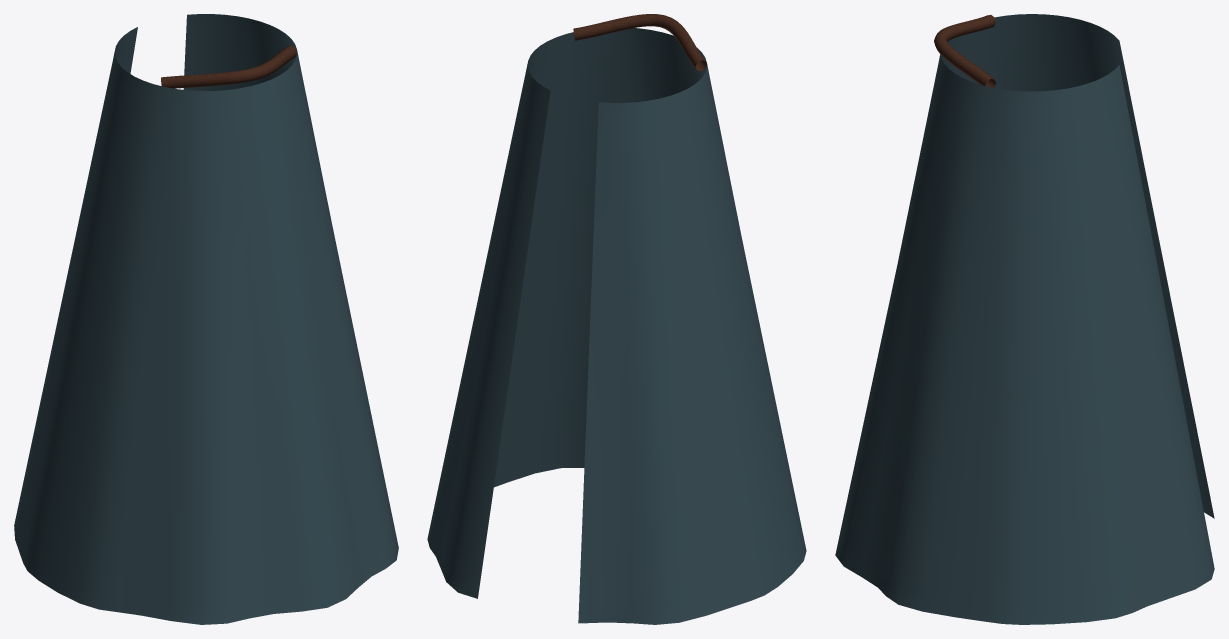
The picture shows the model from 3 angles, left to right: view 1: azimuth 30°, elevation 25°; view 2: azimuth 150°, elevation 25°; view 3: azimuth 270°, elevation 25°; orthographic projection. The views are drawn at different scales.
Parts seen in each view (by area): view 1: cloth.0, leather.1; view 2: cloth.0, leather.1; view 3: cloth.0, leather.1.
Part boxes in pixels (x1,y1,x2,y2): cloth.0: (14, 14, 398, 624); leather.1: (161, 45, 297, 88); cloth.0: (427, 28, 806, 624); leather.1: (573, 14, 706, 70); cloth.0: (835, 14, 1214, 624); leather.1: (934, 15, 995, 87).
Bounding box in the file's own units: 0.9199 × 1.35 × 0.91.
2 materials, 2 textured.
